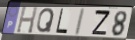8: (111, 10, 128, 38)
H: (15, 6, 39, 35)
I: (73, 7, 86, 37)
L: (55, 8, 69, 35)
Q: (36, 8, 56, 34)
Z: (91, 9, 112, 36)
